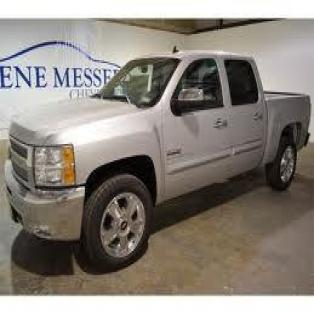Auto: (6, 47, 312, 273)
